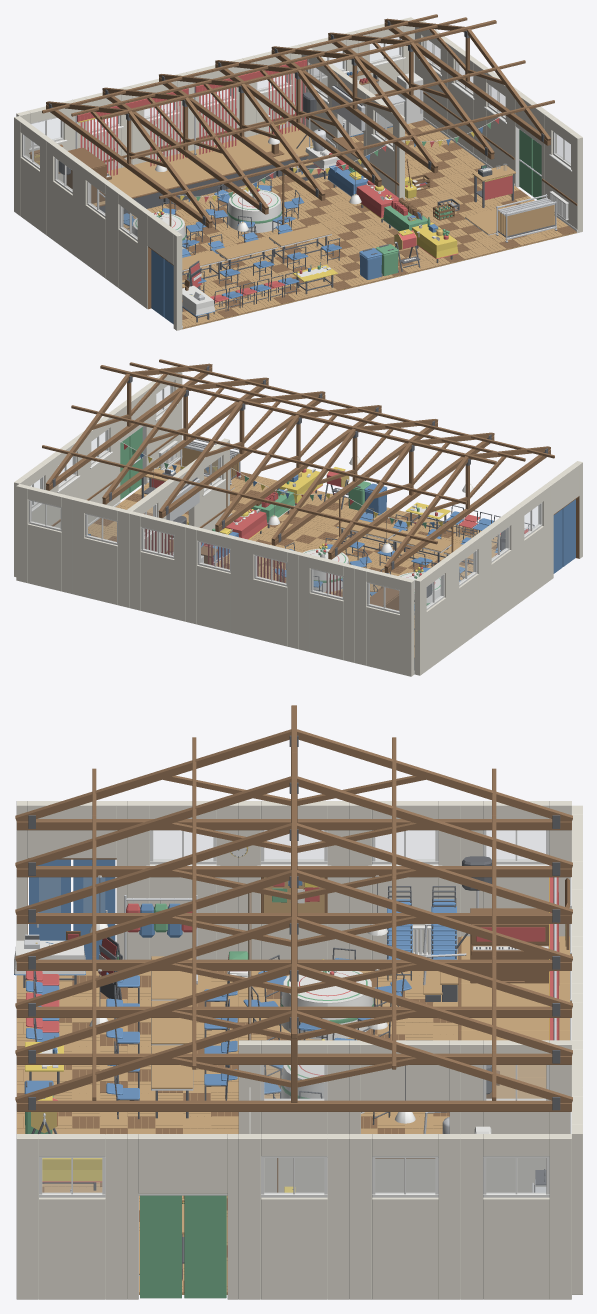
The picture shows the model from 3 angles, top to bottom: view 1: azimuth 30°, elevation 25°; view 2: azimuth 150°, elevation 25°; view 3: azimuth 270°, elevation 25°; orthographic projection. The views are drawn at different scales.
Visible parts, largest first — view 1: 060-roof-beam-bay/0, 062-roof-beam-bay/0, 064-roof-beam-bay/0, 066-roof-beam-bay/0, 063-roof-beam-bay/0, 061-roof-beam-bay/0, 065-roof-beam-bay/0, 050-hall-wall-module/0, 049-hall-wall-module/0, 048-hall-wall-module/0, 047-hall-wall-module/0, 056-hall-wall-module/0 (+70 smaller); view 2: 040-hall-wall-module/0, 045-hall-wall-module/0, 043-hall-wall-module/0, 044-hall-wall-module/0, 041-hall-wall-module/0, 046-hall-wall-module/0, 042-hall-wall-module/0, 060-roof-beam-bay/0, 062-roof-beam-bay/0, 064-roof-beam-bay/0, 063-roof-beam-bay/0, 066-roof-beam-bay/0 (+40 smaller); view 3: 056-hall-wall-module/0, 053-hall-wall-module/0, 054-hall-wall-module/0, 052-hall-wall-module/0, 066-roof-beam-bay/0, 065-roof-beam-bay/0, 064-roof-beam-bay/0, 063-roof-beam-bay/0, 060-roof-beam-bay/0, 061-roof-beam-bay/0, 062-roof-beam-bay/0, 055-fire-exit-door-module/0 (+52 smaller).
Boxes of the visible parts, x1,y1,x2,y2 form: 060-roof-beam-bay/0: [42, 97, 216, 228]; 062-roof-beam-bay/0: [155, 69, 329, 200]; 064-roof-beam-bay/0: [268, 41, 442, 173]; 066-roof-beam-bay/0: [381, 14, 554, 145]; 063-roof-beam-bay/0: [211, 55, 385, 186]; 061-roof-beam-bay/0: [98, 83, 272, 214]; 065-roof-beam-bay/0: [324, 28, 498, 159]; 050-hall-wall-module/0: [111, 187, 149, 306]; 049-hall-wall-module/0: [79, 163, 116, 282]; 048-hall-wall-module/0: [46, 140, 84, 258]; 047-hall-wall-module/0: [14, 116, 51, 235]; 056-hall-wall-module/0: [545, 113, 582, 232]; 040-hall-wall-module/0: [355, 566, 414, 676]; 045-hall-wall-module/0: [72, 497, 131, 607]; 043-hall-wall-module/0: [185, 525, 244, 635]; 044-hall-wall-module/0: [129, 511, 188, 621]; 041-hall-wall-module/0: [298, 552, 357, 662]; 046-hall-wall-module/0: [16, 484, 75, 593]; 042-hall-wall-module/0: [242, 539, 301, 649]; 060-roof-beam-bay/0: [380, 442, 554, 573]; 062-roof-beam-bay/0: [267, 414, 441, 545]; 064-roof-beam-bay/0: [154, 386, 328, 518]; 063-roof-beam-bay/0: [211, 400, 385, 531]; 066-roof-beam-bay/0: [42, 359, 215, 490]; 056-hall-wall-module/0: [16, 1134, 127, 1299]; 053-hall-wall-module/0: [349, 1134, 460, 1299]; 054-hall-wall-module/0: [238, 1134, 349, 1299]; 052-hall-wall-module/0: [461, 1134, 571, 1299]; 066-roof-beam-bay/0: [15, 987, 572, 1111]; 065-roof-beam-bay/0: [15, 940, 572, 1064]; 064-roof-beam-bay/0: [15, 893, 572, 1017]; 063-roof-beam-bay/0: [15, 846, 572, 970]; 060-roof-beam-bay/0: [15, 705, 572, 830]; 061-roof-beam-bay/0: [15, 752, 572, 877]; 062-roof-beam-bay/0: [15, 799, 572, 923]; 055-fire-exit-door-module/0: [127, 1134, 238, 1299].
Bounding box in the file's own units: 14.4 × 5.19 × 10.25.
